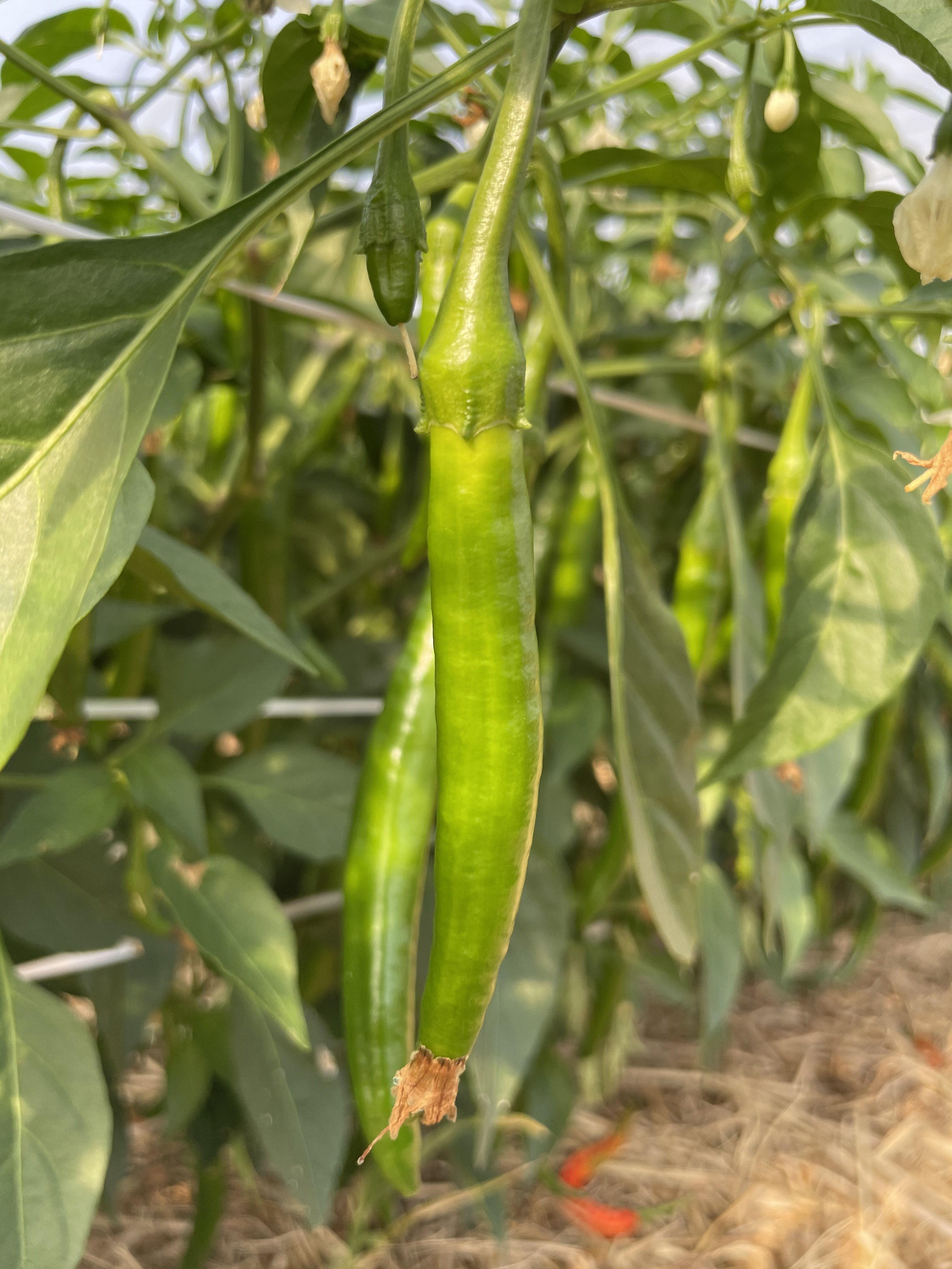Buah Cabai Sehat: (412, 278, 574, 1193)
